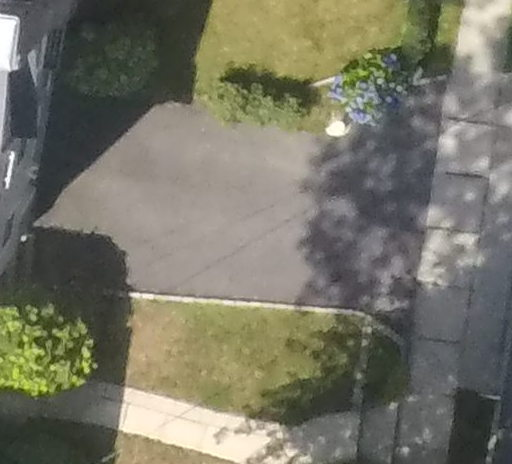driveway: (1, 107, 457, 319)
